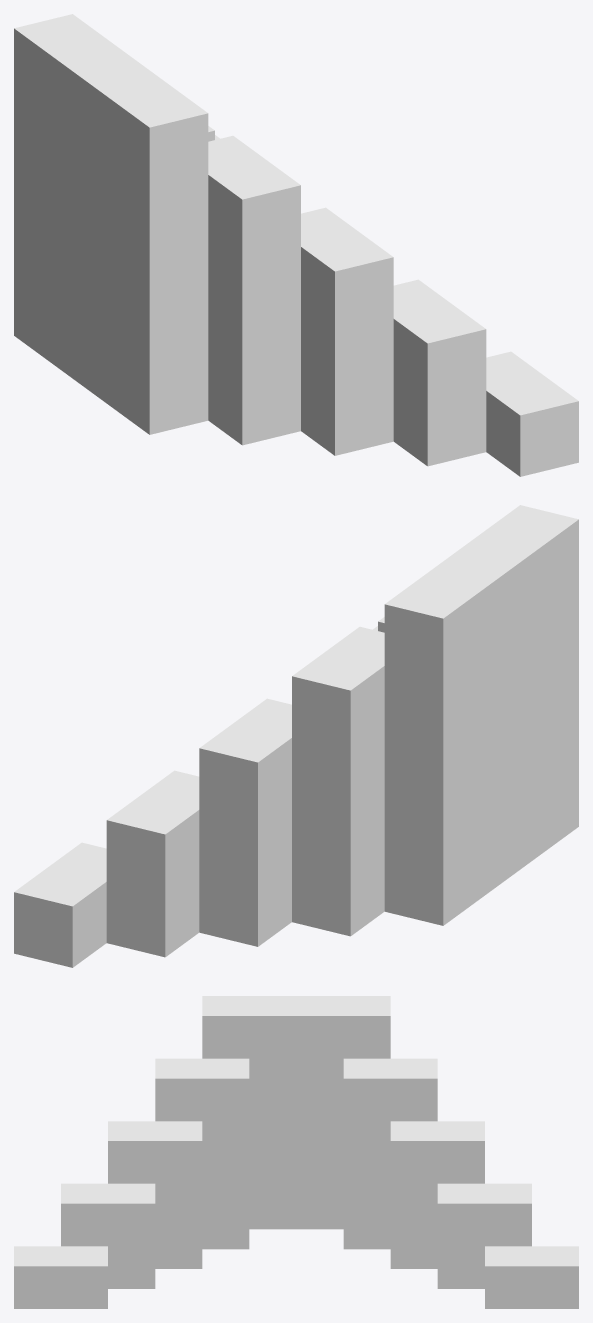
Rendered from SmallFloorLight_1.obj.
The picture shows the model from 3 angles, top to bottom: view 1: azimuth 30°, elevation 25°; view 2: azimuth 150°, elevation 25°; view 3: azimuth 270°, elevation 25°; orthographic projection. The views are drawn at different scales.
Parts seen in each view (by area): view 1: SmallFloorLight_1; view 2: SmallFloorLight_1; view 3: SmallFloorLight_1.
Part boxes in pixels (<box>): SmallFloorLight_1: <box>14,14,578,476</box>; SmallFloorLight_1: <box>14,505,578,967</box>; SmallFloorLight_1: <box>14,996,578,1308</box>.
Bounding box in the file's own units: 5 × 5 × 12.
Materials: 1 (1 with a texture image).
